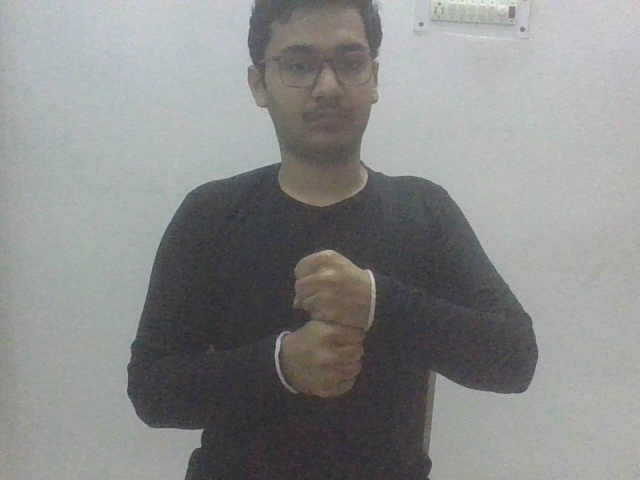G: (267, 244, 384, 409)
